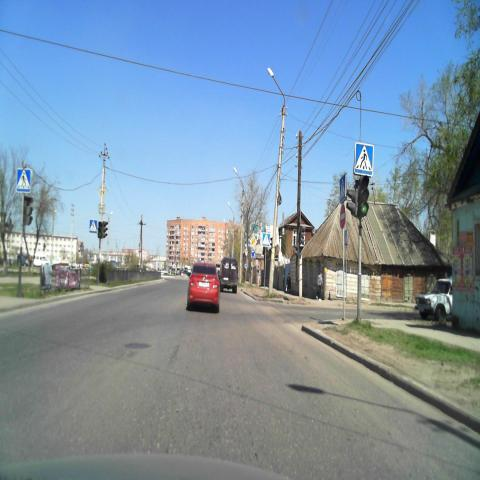3_1: (340, 204, 346, 228)
